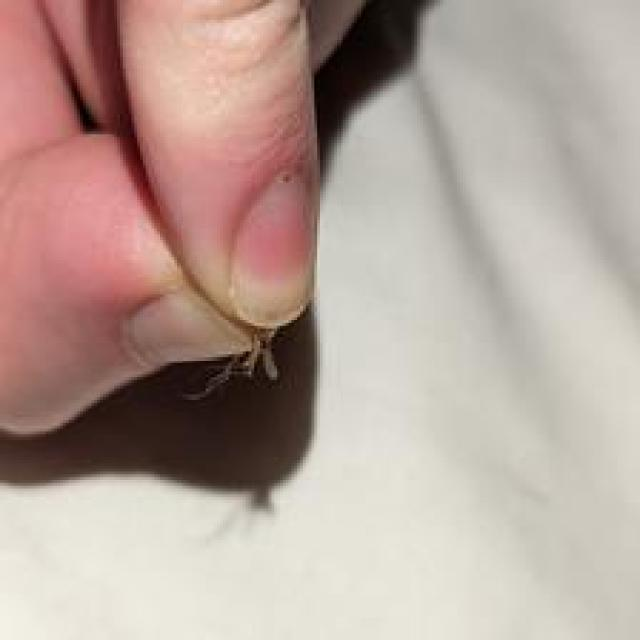Culex: (182, 326, 282, 403)
